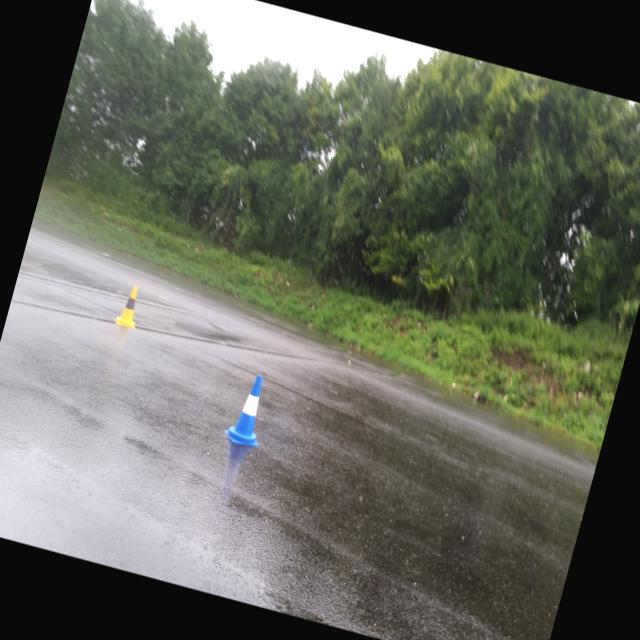blue_cone: (222, 369, 276, 448)
yellow_cone: (113, 282, 145, 328)
